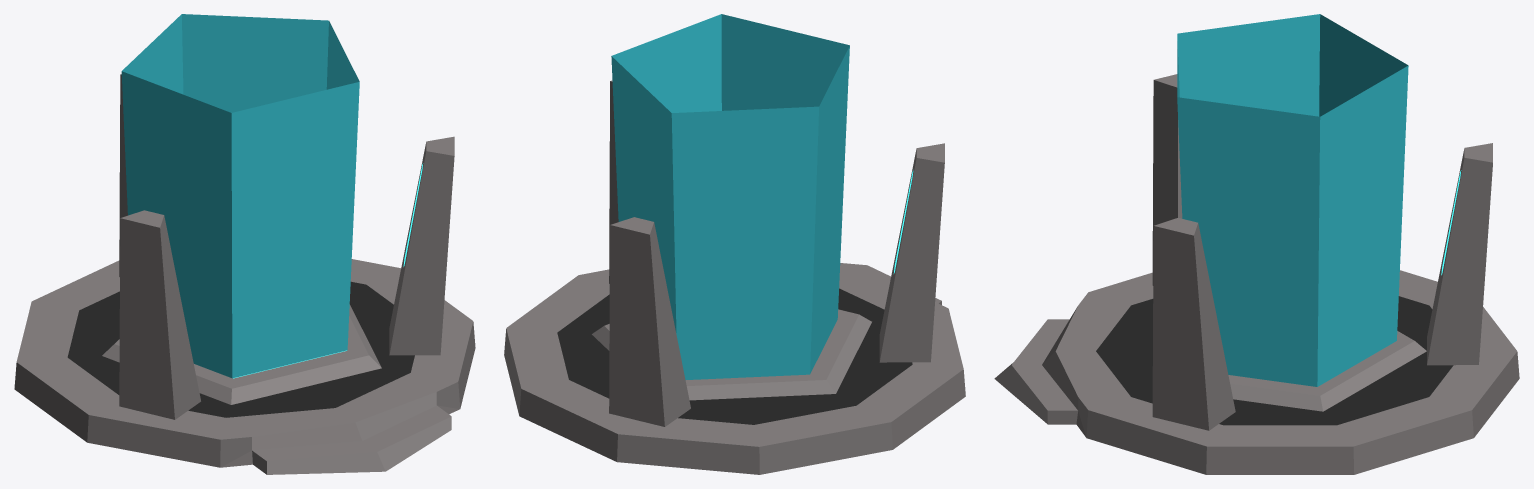
The model's file is scifi-teleport.glb.
3 views of the same model, side by side, from view 1: azimuth 30°, elevation 25°; view 2: azimuth 150°, elevation 25°; view 3: azimuth 270°, elevation 25° (orthographic).
Parts seen in each view (by area): view 1: scifi-teleport; view 2: scifi-teleport; view 3: scifi-teleport.
Part boxes in pixels (x1=…): scifi-teleport: x1=14, y1=14, x2=475, y2=474; scifi-teleport: x1=504, y1=14, x2=965, y2=474; scifi-teleport: x1=994, y1=14, x2=1519, y2=474.
Bounding box in the file's own units: 3 × 2.27 × 3.46.
1 material, 1 textured.
